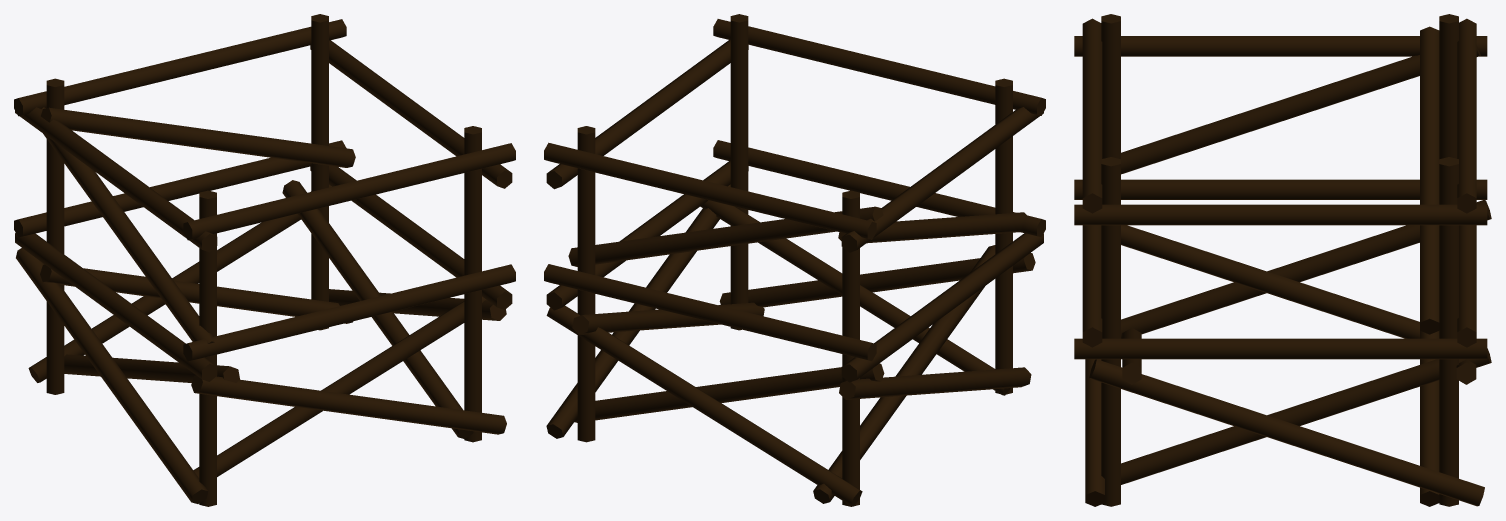
File: BuildingSite0.obj
The picture shows the model from 3 angles, left to right: view 1: azimuth 30°, elevation 25°; view 2: azimuth 150°, elevation 25°; view 3: azimuth 270°, elevation 25°; orthographic projection. The views are drawn at different scales.
Parts seen in each view (by area): view 1: Cylinder061, Cylinder073, Cylinder064, Cylinder057, Cylinder068, Cylinder074, Cylinder063, Cylinder070, Cylinder066, Cylinder054, Cylinder060, Cylinder058 (+10 smaller); view 2: Cylinder062, Cylinder058, Cylinder074, Cylinder073, Cylinder057, Cylinder053, Cylinder061, Cylinder056, Cylinder060, Cylinder054, Cylinder063, Cylinder064 (+10 smaller); view 3: Cylinder072, Cylinder059, Cylinder065, Cylinder070, Cylinder060, Cylinder071, Cylinder067, Cylinder066, Cylinder068, Cylinder057, Cylinder053, Cylinder054 (+9 smaller).
Part boxes in pixels (x1=…): Cylinder061: x1=183, y1=264, x2=515, y2=361; Cylinder073: x1=183, y1=143, x2=515, y2=240; Cylinder064: x1=191, y1=375, x2=506, y2=434; Cylinder057: x1=41, y1=107, x2=355, y2=167; Cylinder068: x1=16, y1=248, x2=208, y2=503; Cylinder074: x1=14, y1=19, x2=346, y2=116; Cylinder063: x1=193, y1=296, x2=487, y2=477; Cylinder070: x1=42, y1=107, x2=214, y2=343; Cylinder066: x1=282, y1=180, x2=473, y2=438; Cylinder054: x1=464, y1=126, x2=481, y2=442; Cylinder060: x1=15, y1=233, x2=217, y2=381; Cylinder058: x1=14, y1=140, x2=346, y2=237; Cylinder062: x1=546, y1=305, x2=862, y2=506; Cylinder058: x1=544, y1=264, x2=876, y2=361; Cylinder074: x1=544, y1=142, x2=876, y2=239; Cylinder073: x1=713, y1=19, x2=1045, y2=115; Cylinder057: x1=568, y1=206, x2=883, y2=266; Cylinder053: x1=577, y1=126, x2=595, y2=442; Cylinder061: x1=713, y1=140, x2=1045, y2=237; Cylinder056: x1=574, y1=363, x2=884, y2=422; Cylinder060: x1=841, y1=233, x2=1043, y2=382; Cylinder054: x1=730, y1=14, x2=748, y2=330; Cylinder063: x1=700, y1=200, x2=1010, y2=395; Cylinder064: x1=719, y1=253, x2=1035, y2=307; Cylinder072: x1=1074, y1=204, x2=1487, y2=225; Cylinder059: x1=1074, y1=338, x2=1487, y2=359; Cylinder065: x1=1089, y1=359, x2=1484, y2=506; Cylinder070: x1=1121, y1=45, x2=1480, y2=174; Cylinder060: x1=1074, y1=179, x2=1487, y2=199; Cylinder071: x1=1074, y1=36, x2=1487, y2=56; Cylinder067: x1=1121, y1=225, x2=1419, y2=338; Cylinder066: x1=1121, y1=348, x2=1491, y2=484; Cylinder068: x1=1121, y1=200, x2=1491, y2=338; Cylinder057: x1=1420, y1=26, x2=1439, y2=334; Cylinder053: x1=1439, y1=157, x2=1458, y2=506; Cylinder054: x1=1101, y1=157, x2=1120, y2=506.
Bounding box in the file's own units: 11 × 10 × 11.11.
